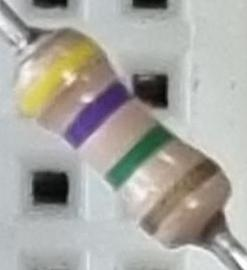Blue: (58, 74, 137, 150)
Green: (99, 121, 177, 196)
Side-Silver: (137, 154, 223, 236)
Yellow: (16, 31, 107, 119)
